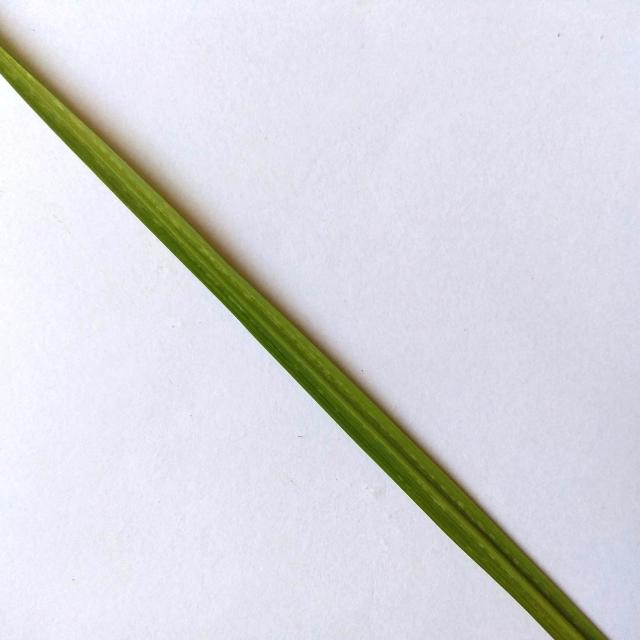Rice_Healthy: (0, 48, 607, 640)
